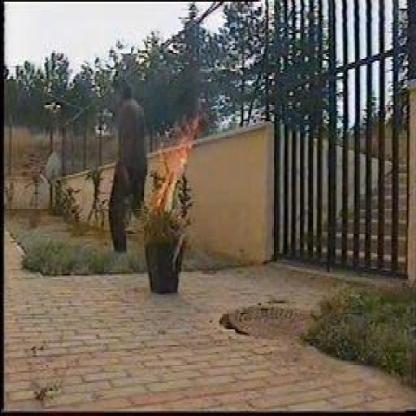foggia-v2-map80-epoch100 - v1 4323: (150, 141, 184, 216)
